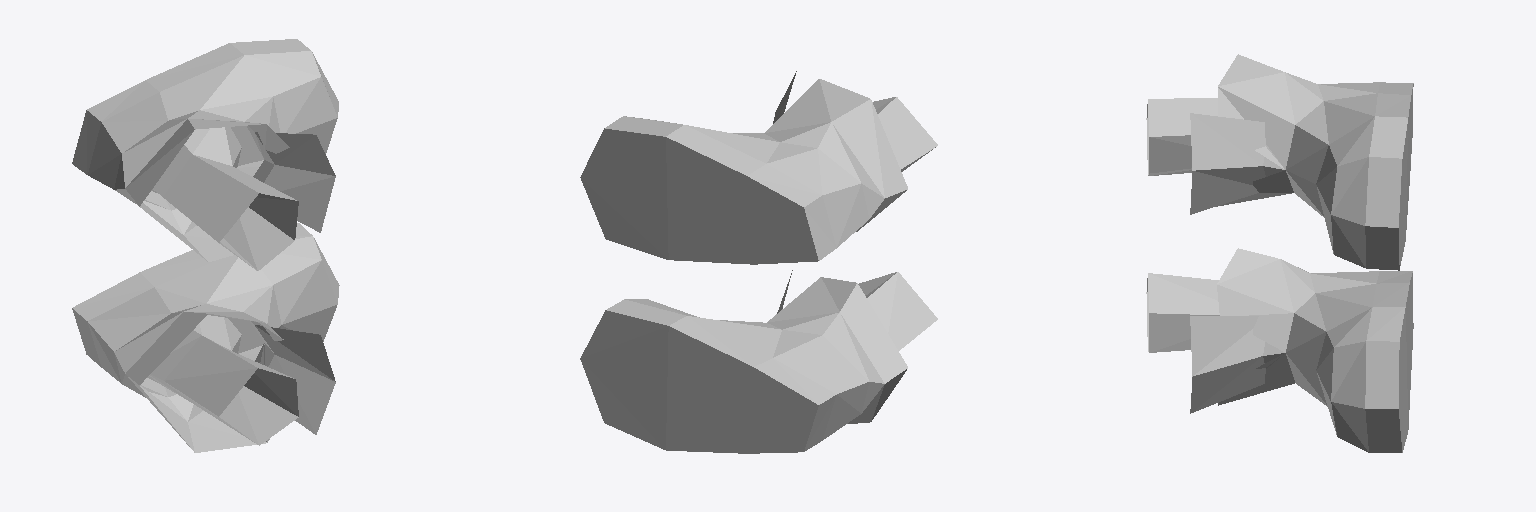
The picture shows the model from 3 angles: view 1: azimuth 30°, elevation 25°; view 2: azimuth 150°, elevation 25°; view 3: azimuth 270°, elevation 25°; orthographic projection.
Parts seen in each view (by area): view 1: ka_foot_002; view 2: ka_foot_002; view 3: ka_foot_002.
Part boxes in pixels (bbox=[...]): ka_foot_002: bbox=[72, 39, 339, 452]; ka_foot_002: bbox=[580, 71, 937, 453]; ka_foot_002: bbox=[1146, 54, 1413, 452].
Size of the model in its own units: 37.15 by 44.7 by 33.42.